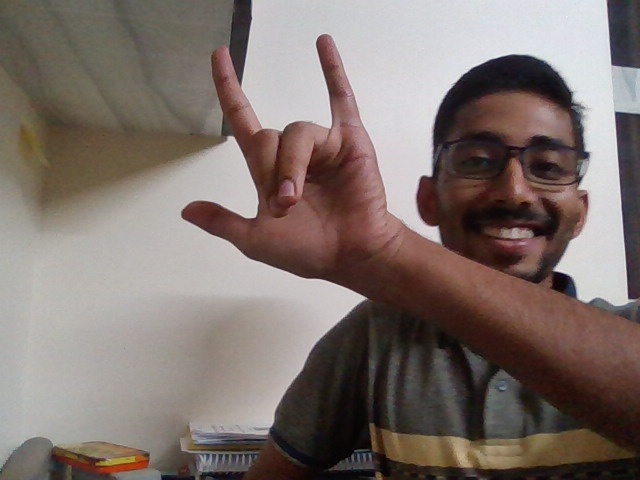Enjoy: (164, 30, 415, 319)
